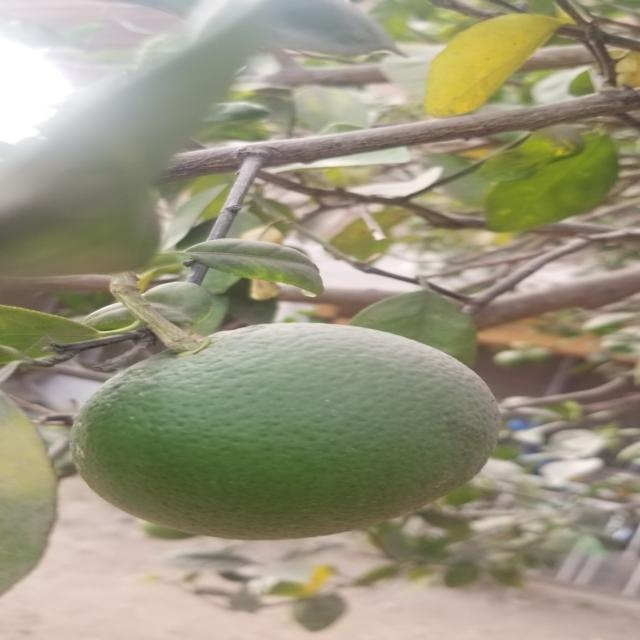agrume: (72, 333, 496, 535), (0, 370, 49, 597)
